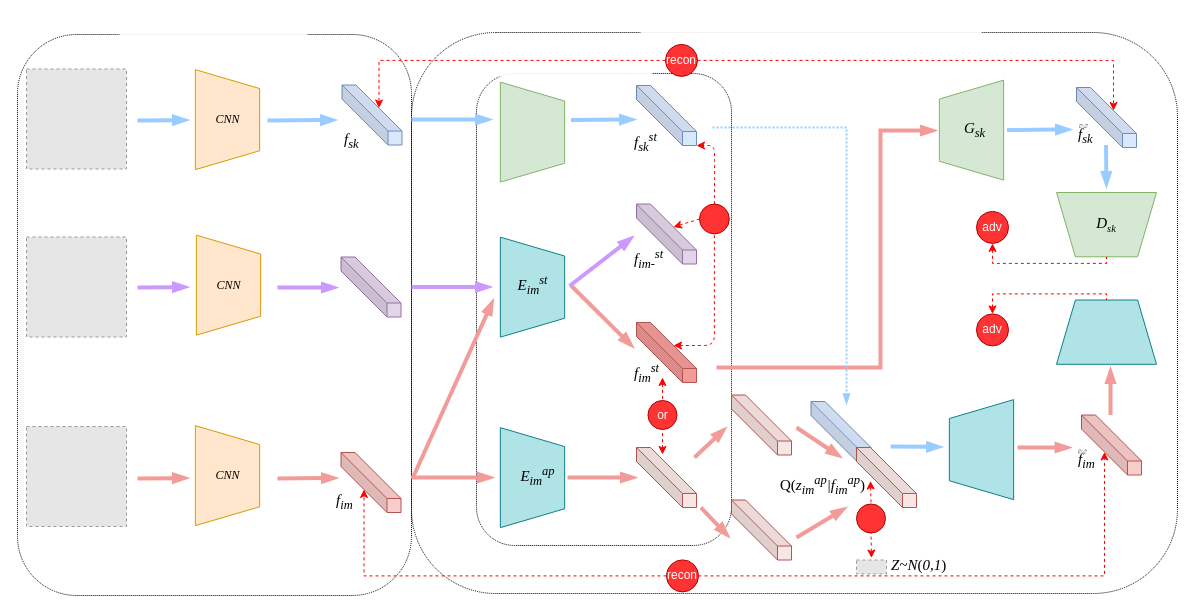
Image size: 1195x613. Some labels were removed from this diagram. Grey dashed boxes stand in for pictures. The centre of each missing label's shape, as x and y in pixels:
"Bi-directional Domain Translation" goes at (810,26).
"D im" goes at (1106,331).
"Disentangle Representation" goes at (564,68).
"E sk" goes at (532,131).
"f im ap" goes at (666,477).
"f im-" goes at (370,286).
"Feature Extraction" goes at (213,34).
"G im" goes at (981,449).
"kl" goes at (871,518).
"rk" goes at (713,218).
